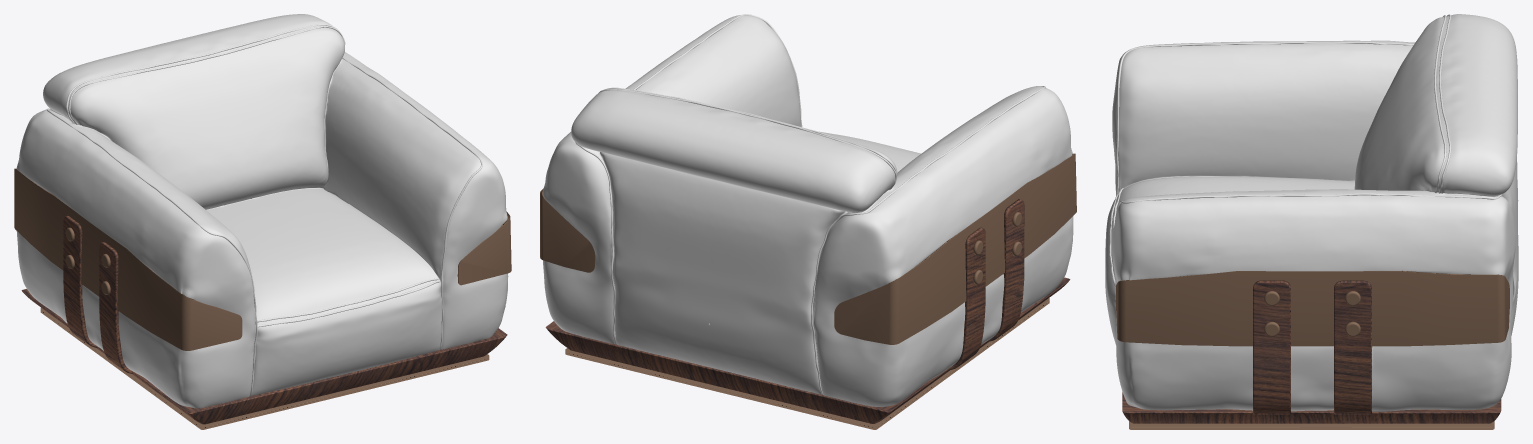
The model's file is St_Hilker_Dusseldorf_1_Seater.glb.
The picture shows the model from 3 angles, left to right: view 1: azimuth 30°, elevation 25°; view 2: azimuth 150°, elevation 25°; view 3: azimuth 270°, elevation 25°; orthographic projection. The views are drawn at different scales.
Visible parts, largest first — view 1: Dusseldorf_Sofa_1STR; view 2: Dusseldorf_Sofa_1STR; view 3: Dusseldorf_Sofa_1STR.
Boxes of the visible parts, x1,y1,x2,y2 form: Dusseldorf_Sofa_1STR: (14,14,511,429); Dusseldorf_Sofa_1STR: (540,14,1076,429); Dusseldorf_Sofa_1STR: (1105,14,1518,429).
Bounding box in the file's own units: 1.26 × 0.8375 × 1.13.
Materials: 4 (1 with a texture image).
